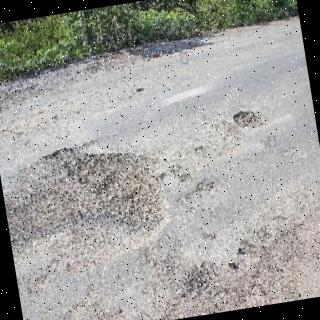pothole: (2, 146, 173, 290), (233, 107, 262, 130)
